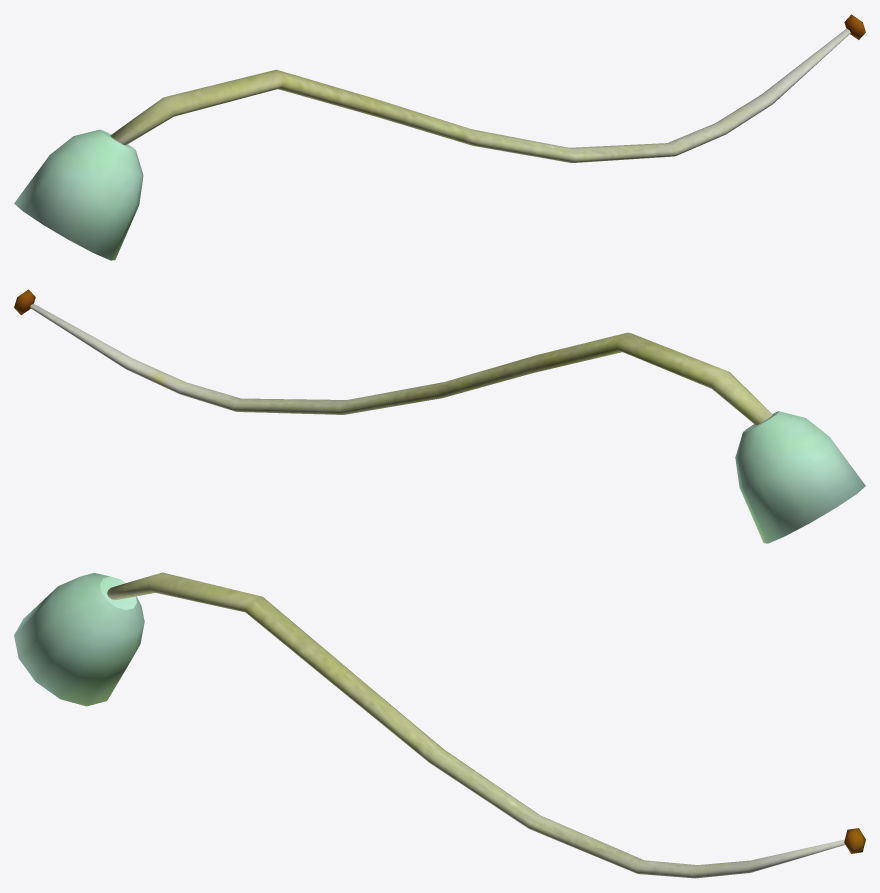
Rendered from Dayflower_Base_SexualOrgansHalf.glb.
3 views of the same model, one above another, from view 1: azimuth 30°, elevation 25°; view 2: azimuth 150°, elevation 25°; view 3: azimuth 330°, elevation 25° (orthographic).
Visible parts, largest first — view 1: DayflowerPistil1, DayflowerOvary; view 2: DayflowerPistil1, DayflowerOvary; view 3: DayflowerPistil1, DayflowerOvary.
Boxes of the visible parts, x1=… form: DayflowerPistil1: x1=110, y1=28, x2=850, y2=162; DayflowerOvary: x1=14, y1=129, x2=143, y2=260; DayflowerPistil1: x1=30, y1=303, x2=772, y2=425; DayflowerOvary: x1=735, y1=411, x2=865, y2=543; DayflowerPistil1: x1=107, y1=572, x2=845, y2=878; DayflowerOvary: x1=14, y1=573, x2=144, y2=706.
Size of the model in its own units: 1.44 by 0.2875 by 0.1752.
3 materials, 3 textured.
